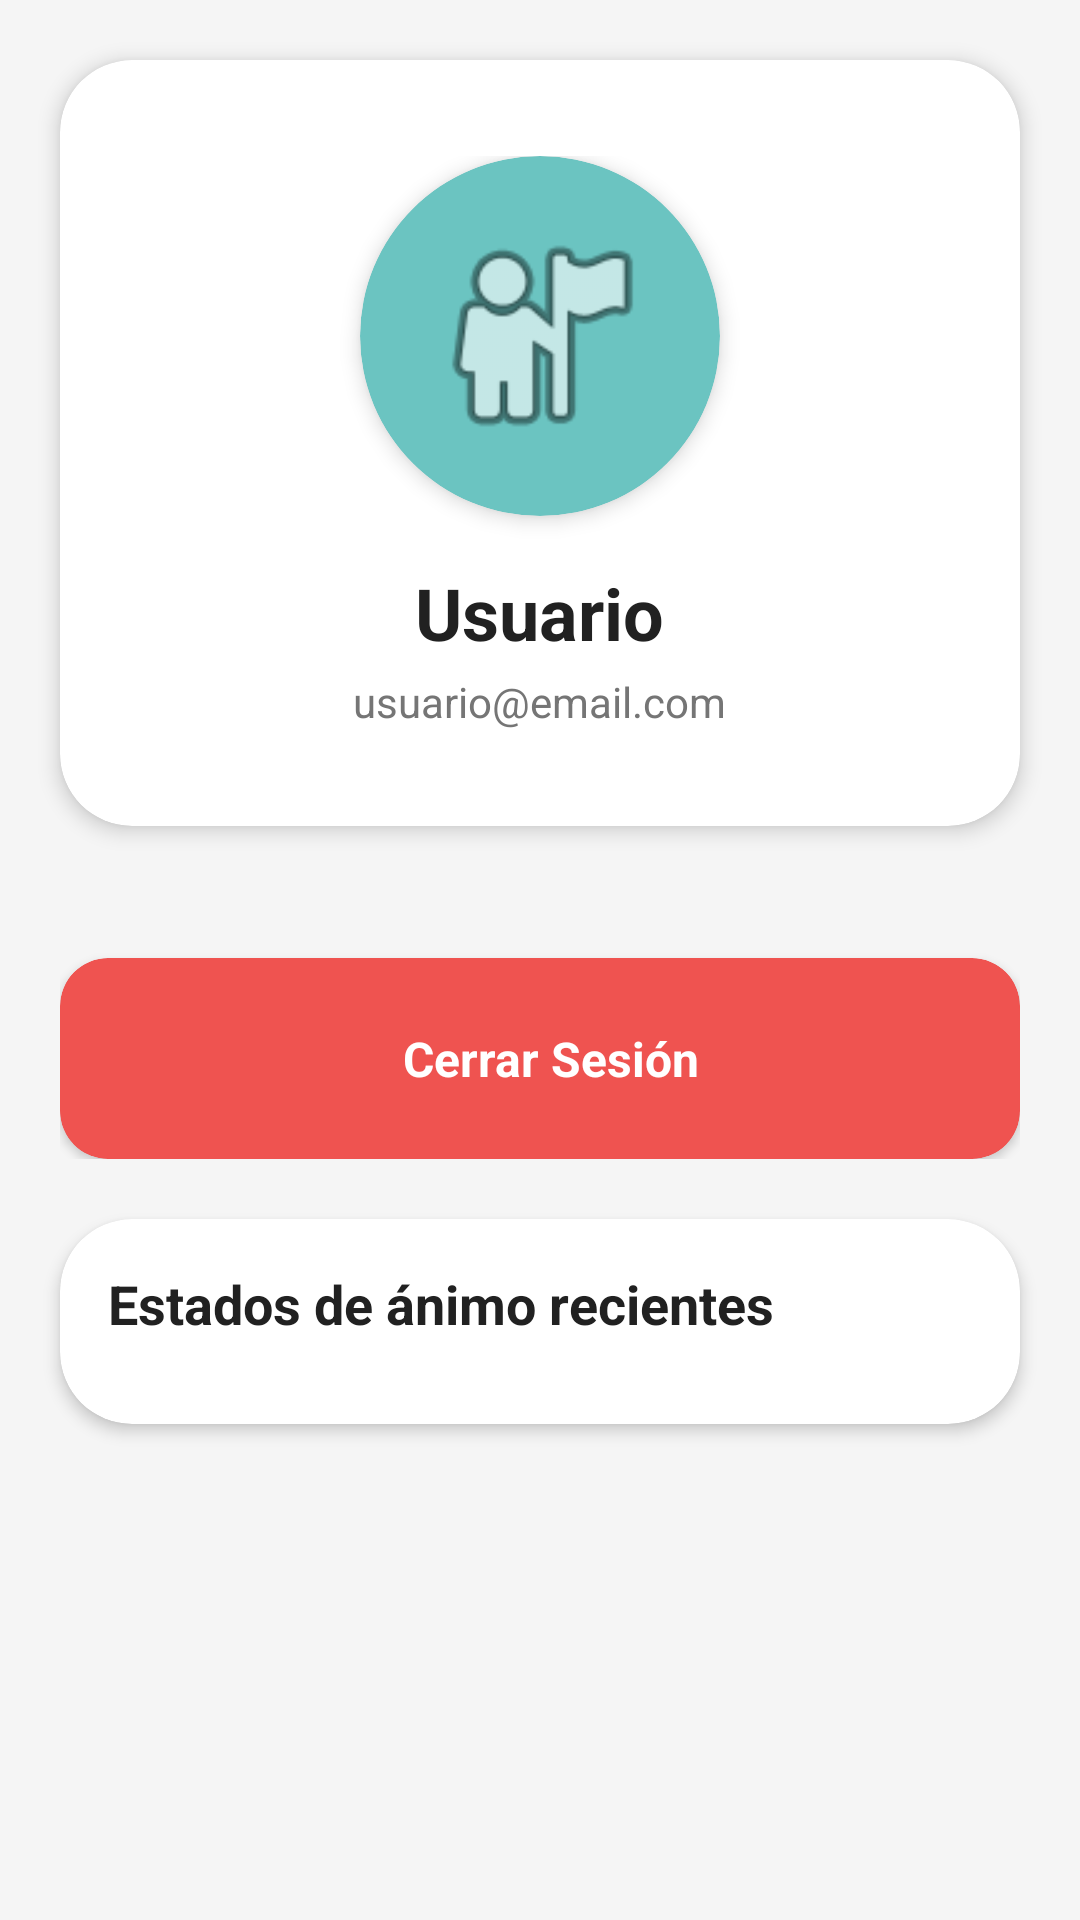

Where icons sit on this 1080*1920 app screen, as (x1, y1, x2, y2):
Avatar: (360, 156, 720, 516)
